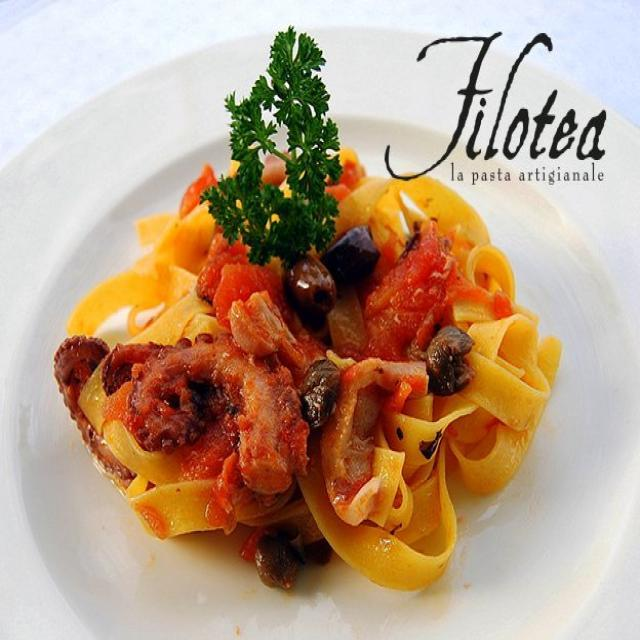Pasta al ragu: (66, 175, 514, 573)
